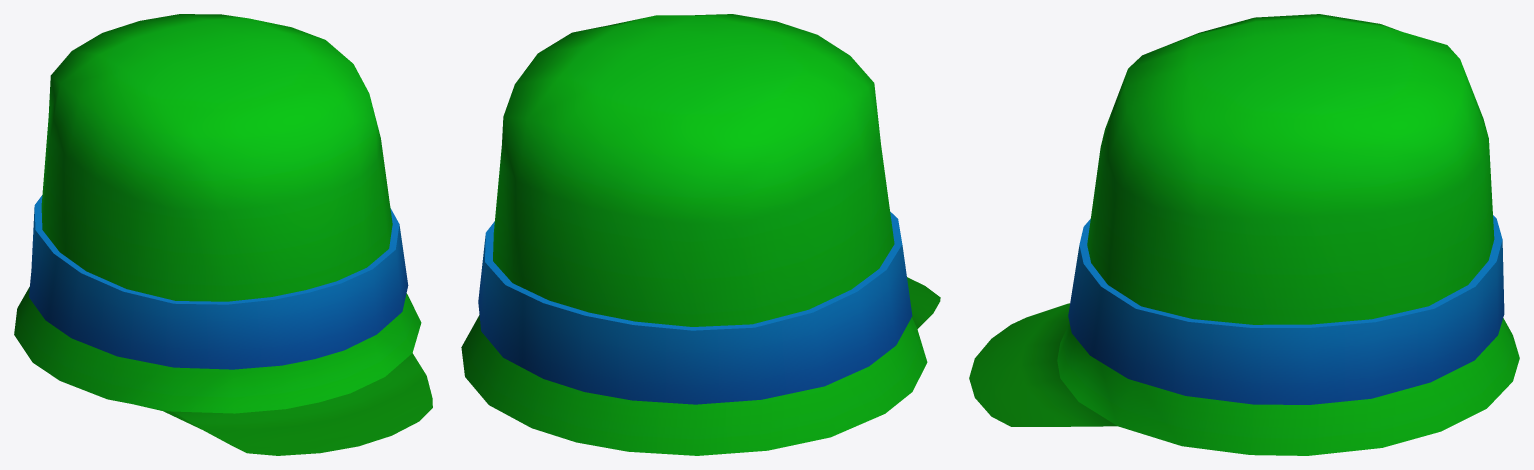
File: crossbow_Hat.fbx
3 views of the same model, side by side, from view 1: azimuth 30°, elevation 25°; view 2: azimuth 150°, elevation 25°; view 3: azimuth 270°, elevation 25° (orthographic). The views are drawn at different scales.
Parts seen in each view (by area): view 1: Stickman_heads_sphere.004; view 2: Stickman_heads_sphere.004; view 3: Stickman_heads_sphere.004.
Part boxes in pixels (bbox=[...]): Stickman_heads_sphere.004: bbox=[14, 14, 432, 455]; Stickman_heads_sphere.004: bbox=[461, 14, 940, 455]; Stickman_heads_sphere.004: bbox=[969, 14, 1519, 455].
Size of the model in its own units: 0.629 by 0.4918 by 0.7554.
Materials: 1 (1 with a texture image).
